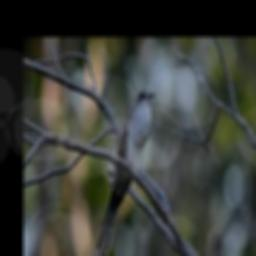Cuckoo: (93, 88, 156, 256)
